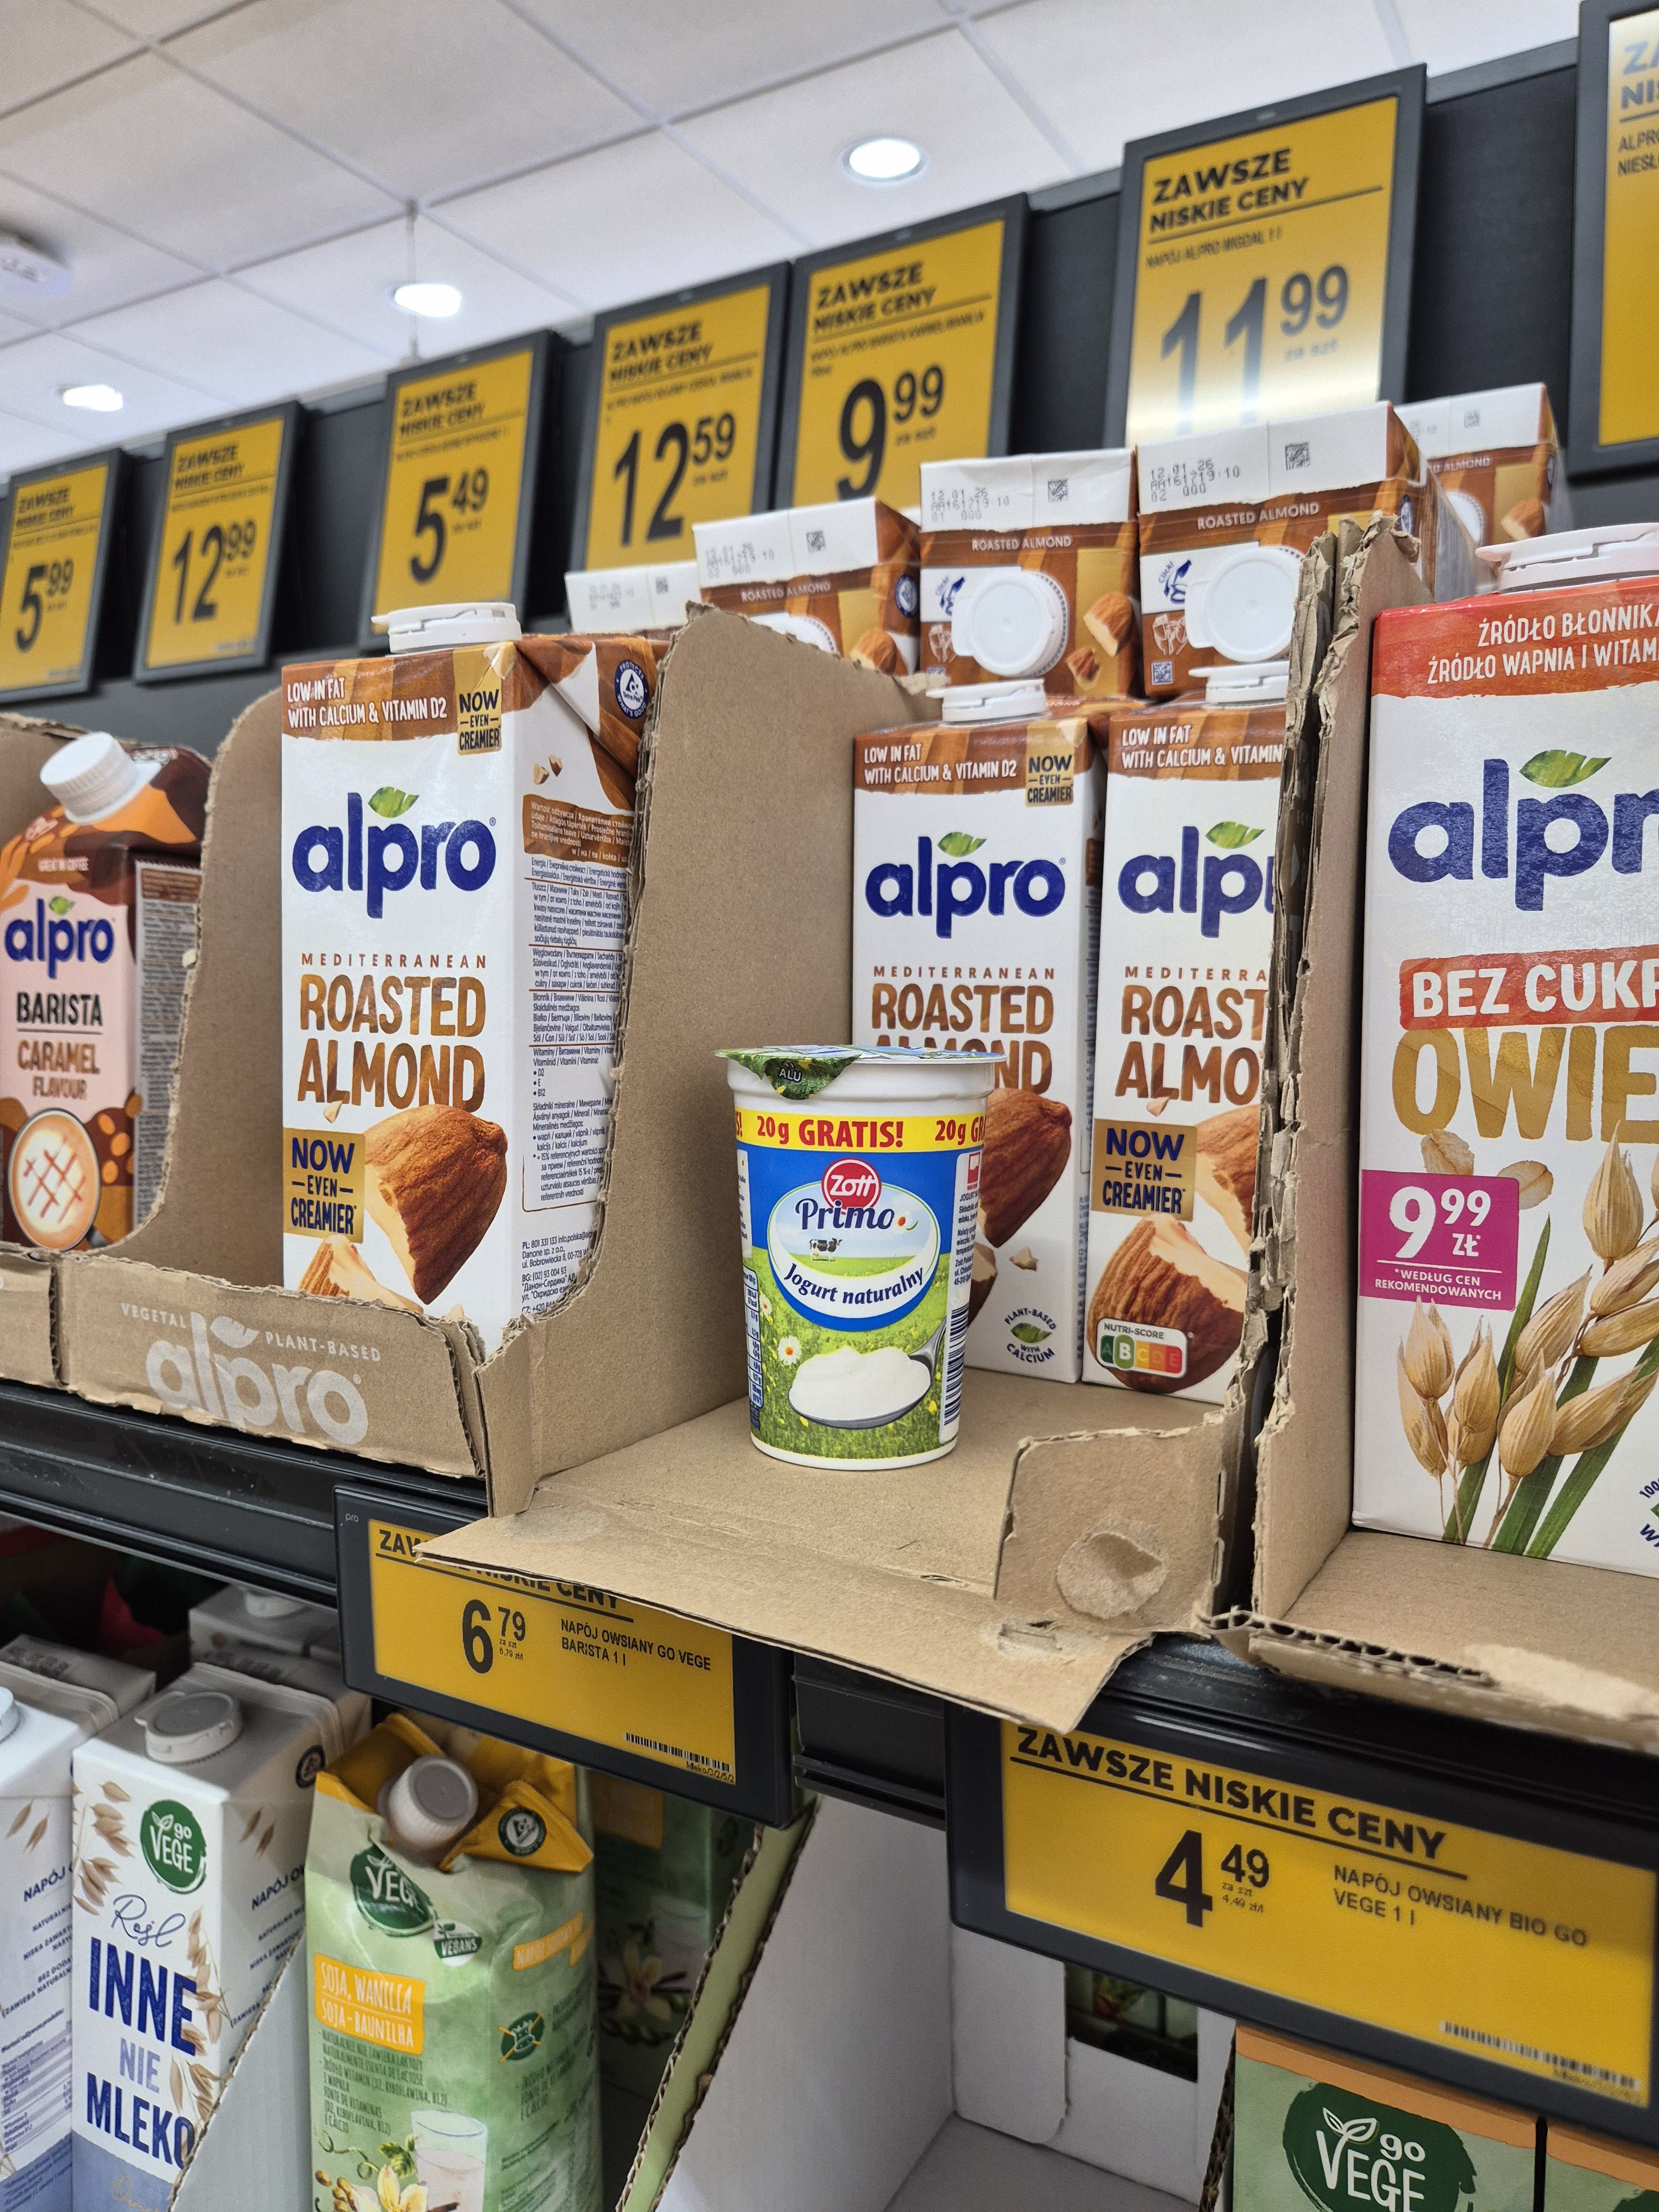Yogurt: (708, 1017, 1007, 1507)
